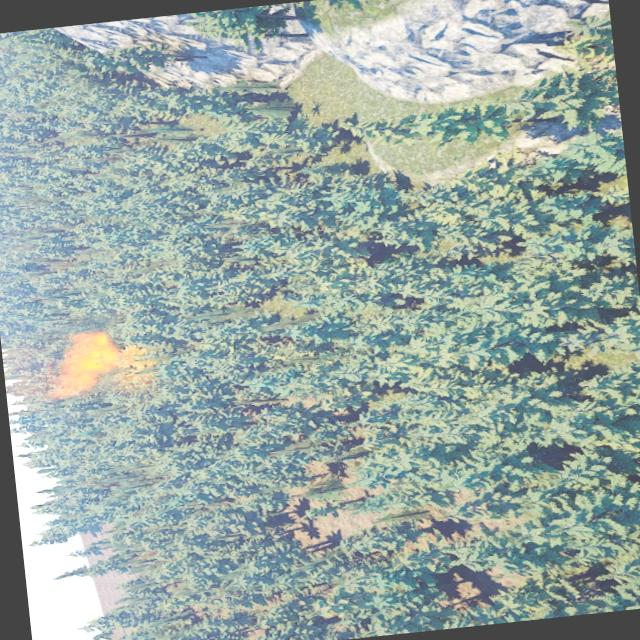fire: (46, 327, 142, 398)
